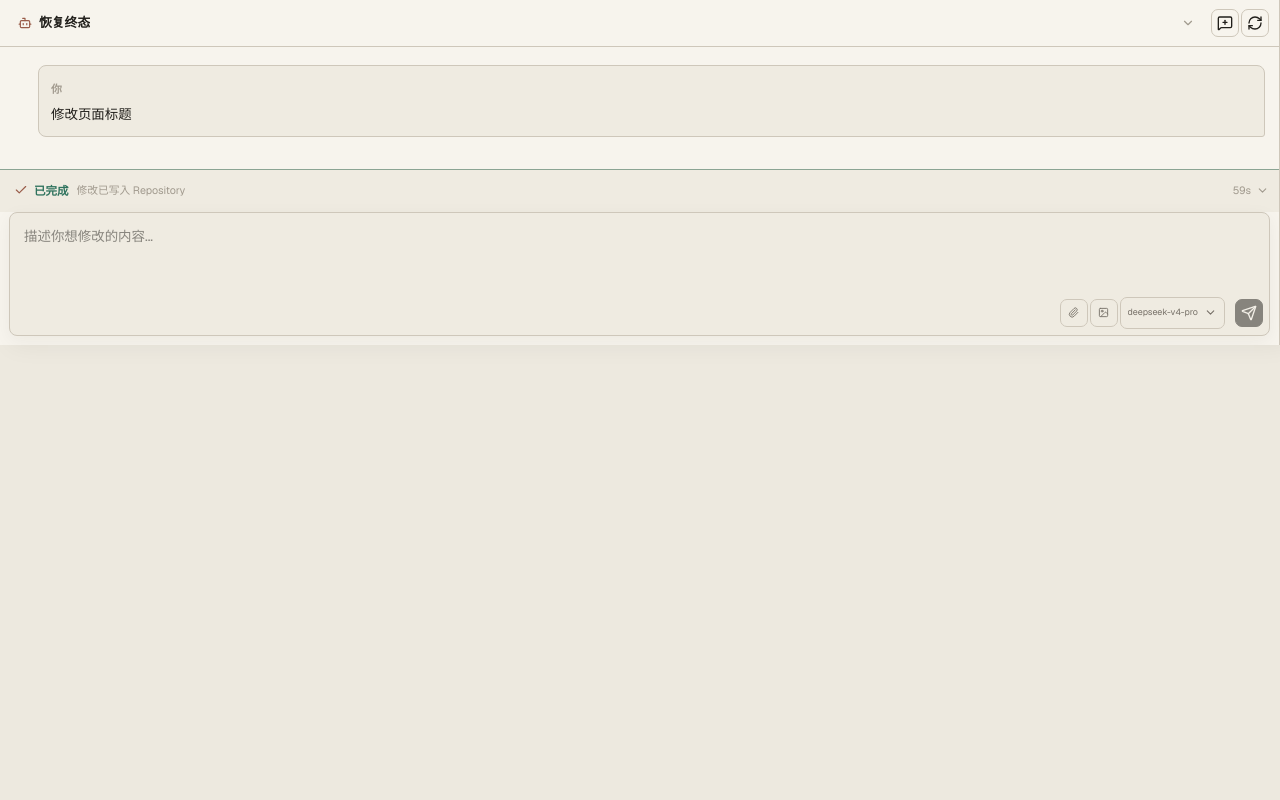
it: AgentPanel › 运行详情与失败的 Browser Verify 默认折叠，按需展开查看
The image size is (1280, 800).
Step 1. Click the heading named "展开或收起运行详情" → (51, 190), box [14, 183, 1269, 198]
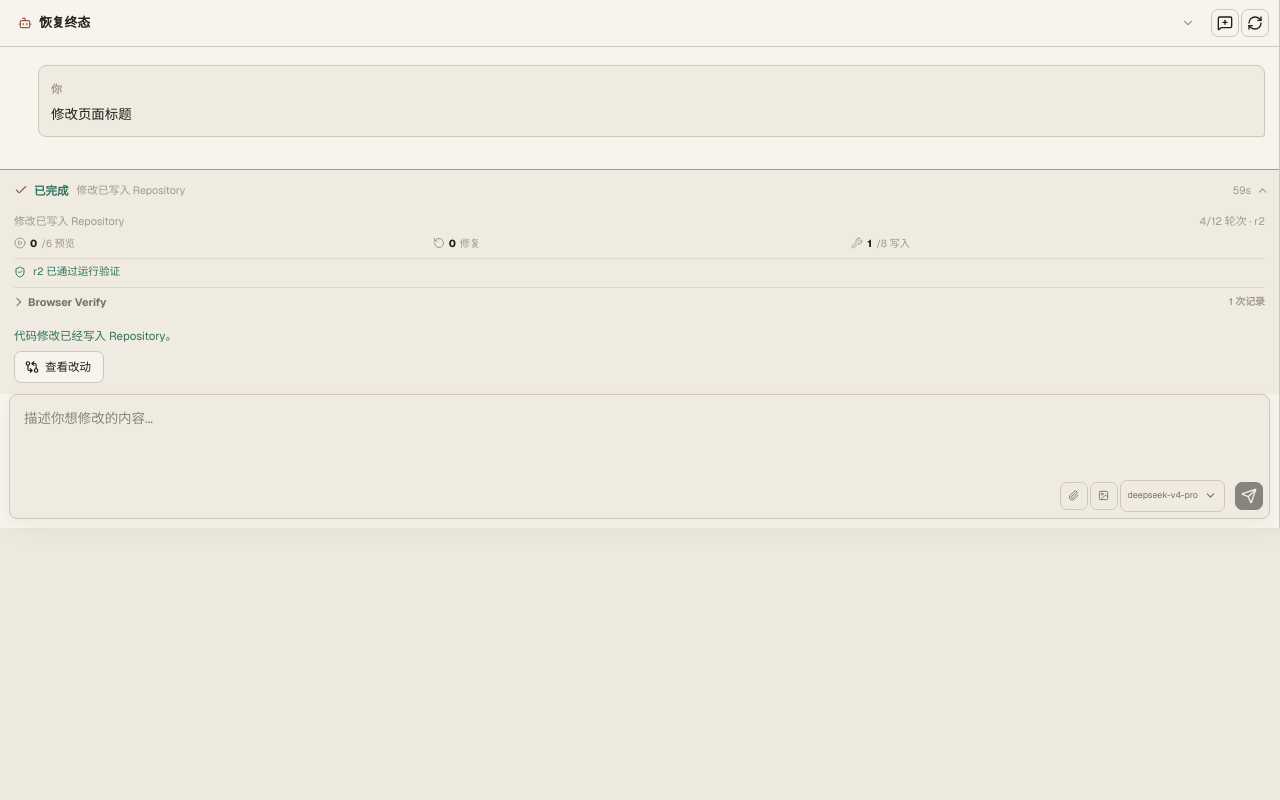
Step 2. Click the text "Browser Verify" → (67, 302), box [28, 294, 106, 310]
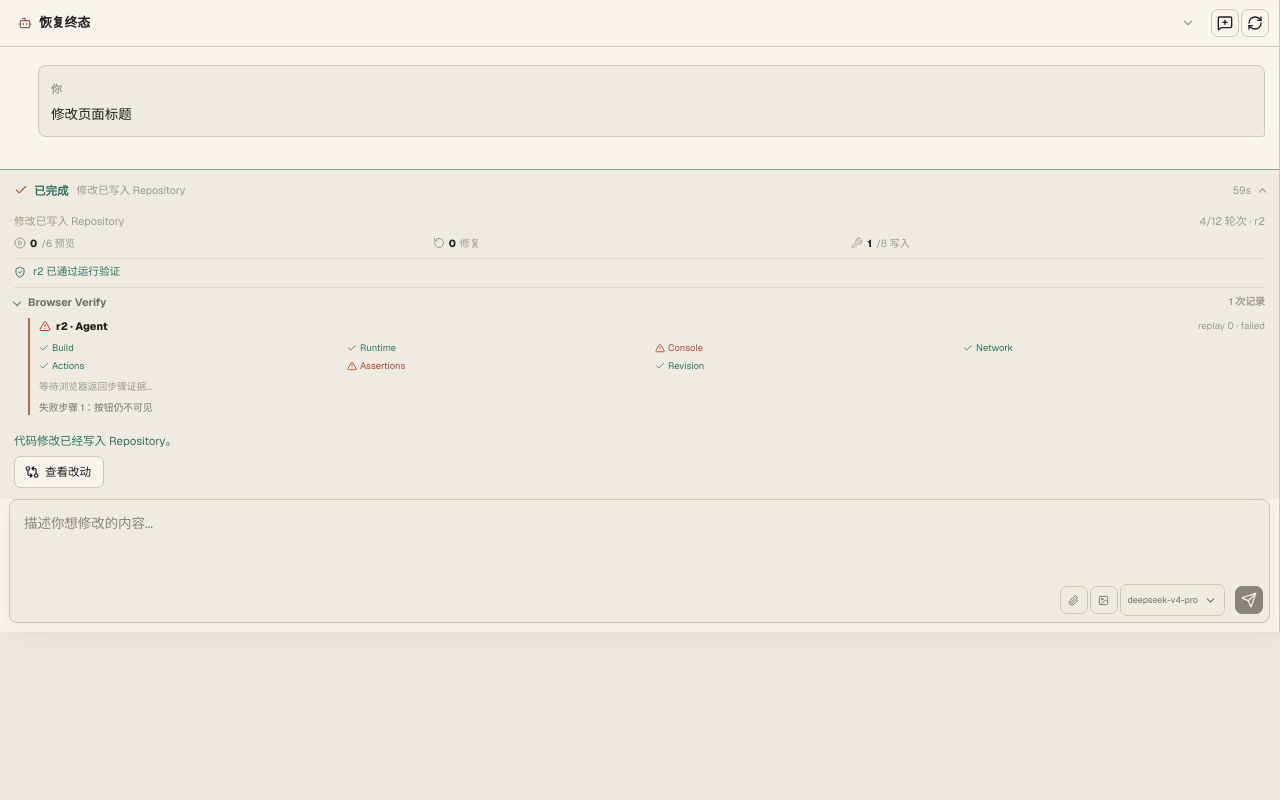
Expected: the text "失败步骤 1：按钮仍不可见" is shown, [39, 401, 152, 414]
